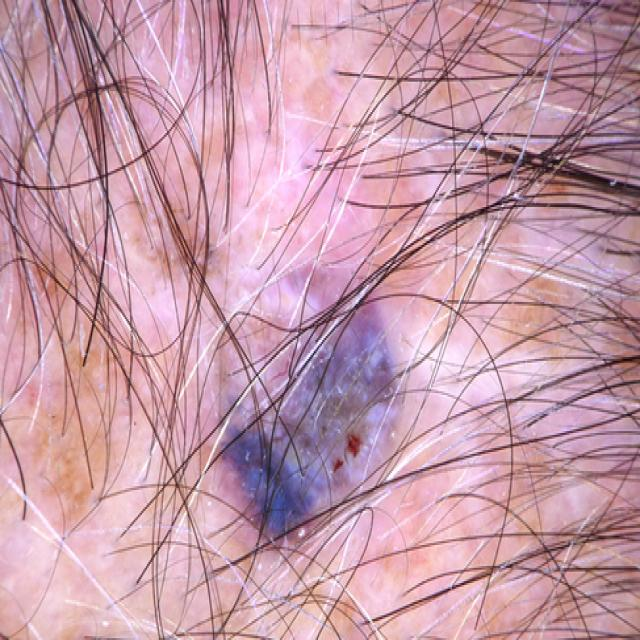Carcinoma: (201, 234, 433, 546)
